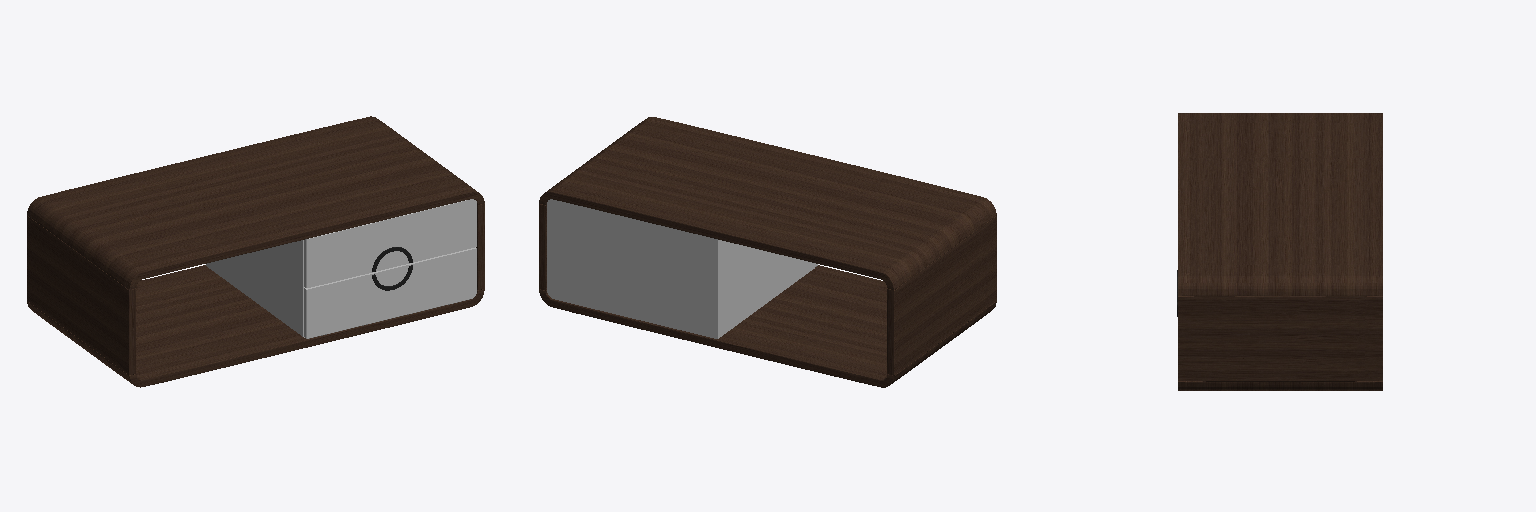
3 renders of one model, left to right at view 1: azimuth 30°, elevation 25°; view 2: azimuth 150°, elevation 25°; view 3: azimuth 270°, elevation 25°, orthographic.
Visible parts, largest first — view 1: Object001_LOD001, Plane003_LOD001, Plane001_LOD001, Plane004_LOD001; view 2: Object001_LOD001, Plane004_LOD001, Plane001_LOD001; view 3: Object001_LOD001, Plane001_LOD001.
Part boxes in pixels (x1,y1,x2,y2): Object001_LOD001: (27,116,484,387); Plane003_LOD001: (304,199,476,338); Plane001_LOD001: (27,203,484,374); Plane004_LOD001: (206,240,303,336); Object001_LOD001: (539,117,996,387); Plane004_LOD001: (547,199,814,338); Plane001_LOD001: (539,204,996,375); Object001_LOD001: (1178,113,1382,390); Plane001_LOD001: (1178,296,1382,381).
Bounding box in the file's own units: 1.22 × 0.4064 × 0.6114.
Materials: 3 (1 with a texture image).